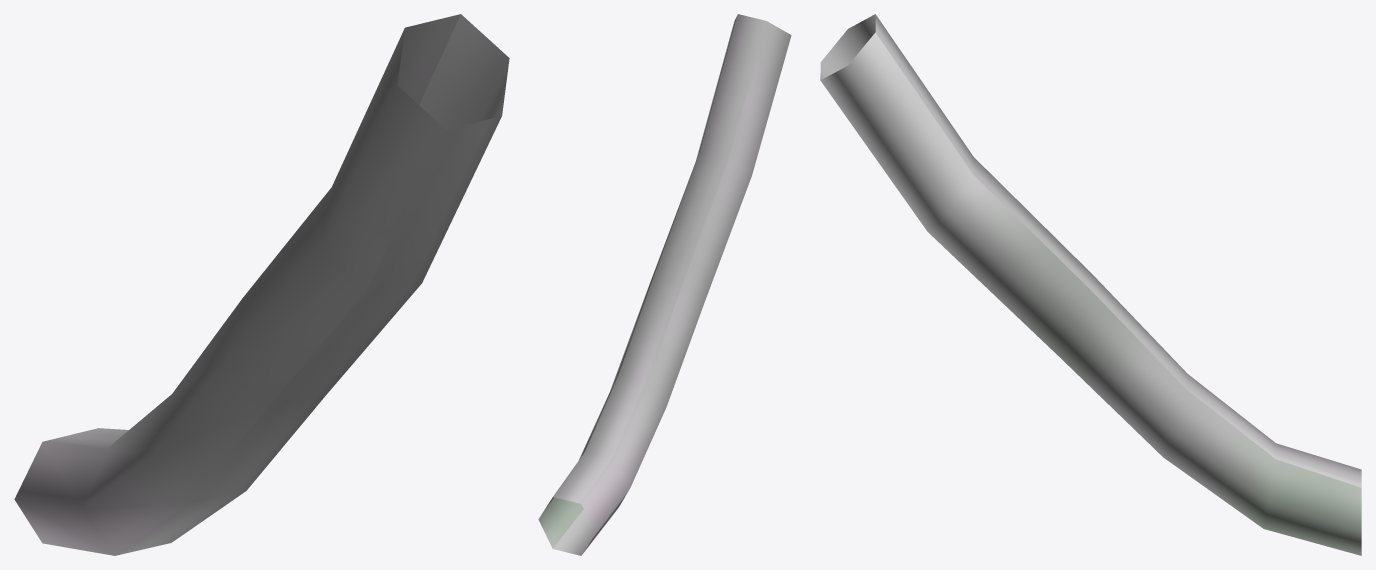
The model's file is cable_bend_angled_tiny.dae.
The picture shows the model from 3 angles, left to right: view 1: azimuth 30°, elevation 25°; view 2: azimuth 150°, elevation 25°; view 3: azimuth 270°, elevation 25°; orthographic projection. The views are drawn at different scales.
Visible parts, largest first — view 1: Mesh; view 2: Mesh; view 3: Mesh.
Part boxes in pixels (x1,y1,x2,y2): Mesh: (14, 14, 509, 555); Mesh: (538, 14, 791, 555); Mesh: (820, 14, 1361, 555).
Bounding box in the file's own units: 0.0169 × 0.1125 × 0.1054.
